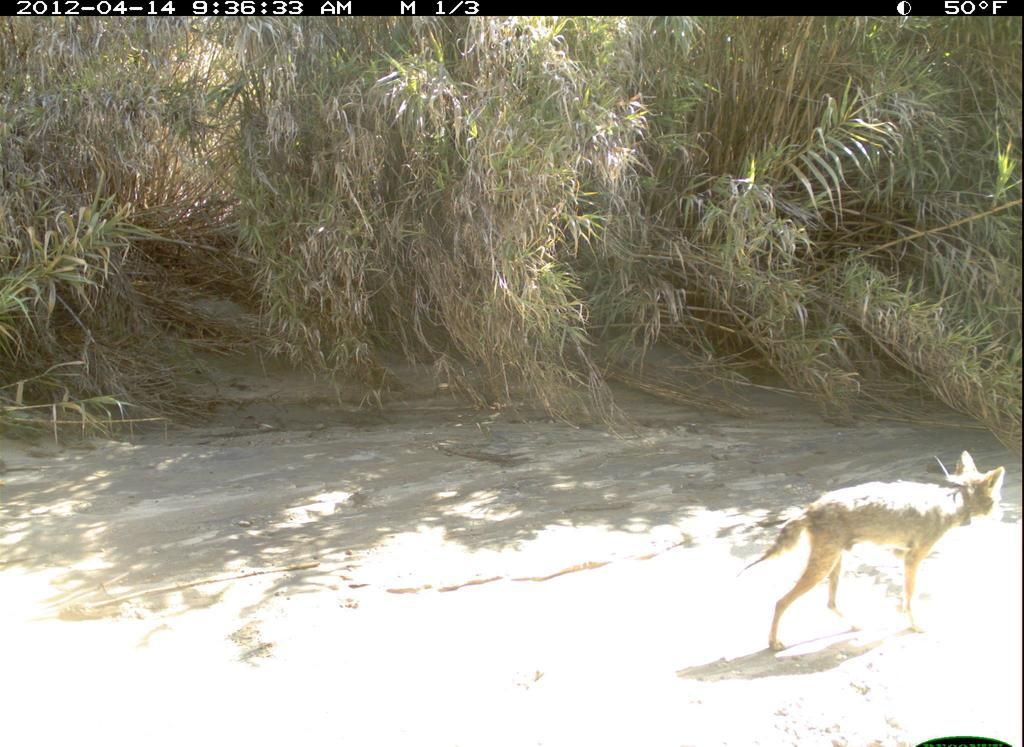coyote: (743, 451, 1014, 671)
